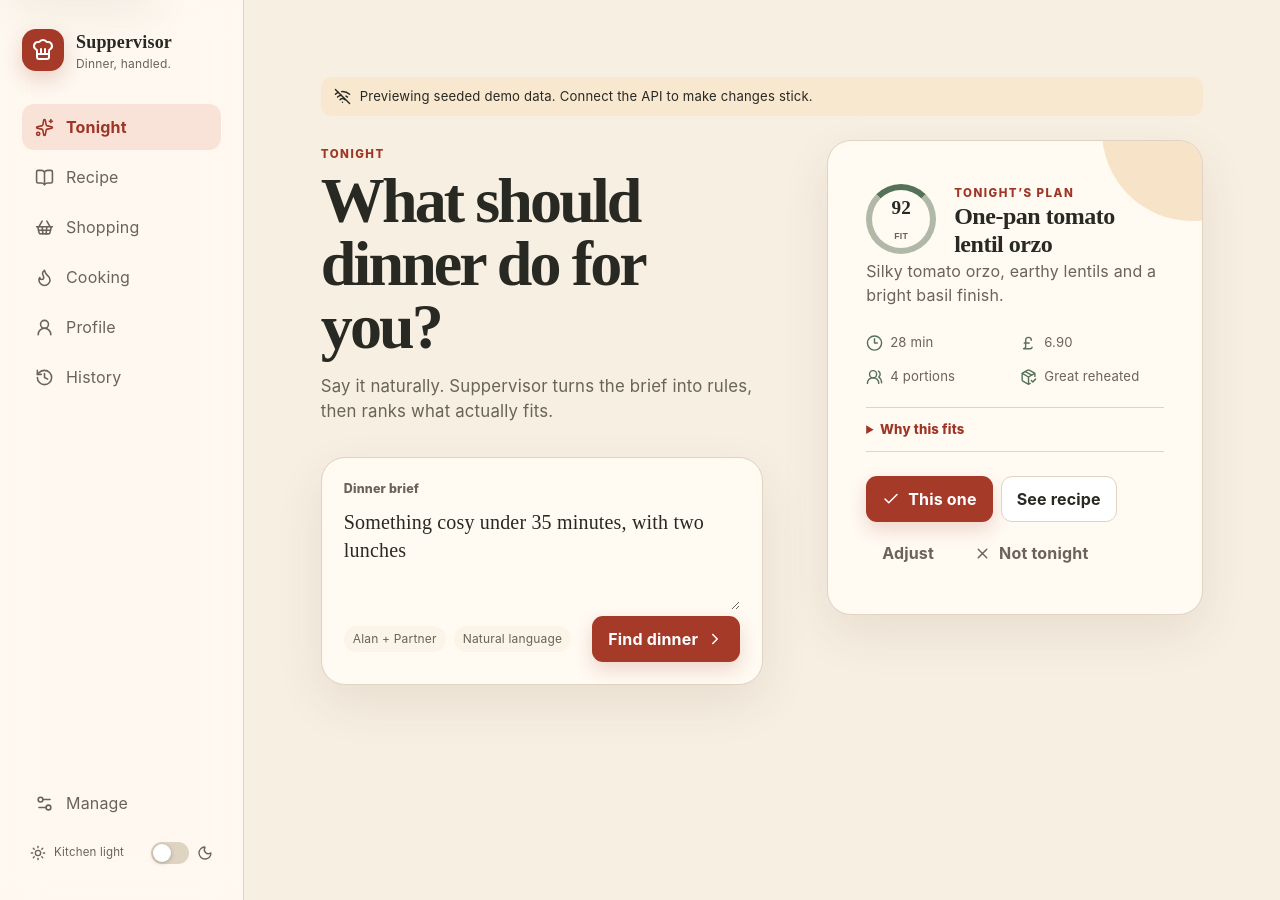
Test: Suppervisor PWA › uses accessible adjustment and structured individual ratings
The width and height of the screenshot is (1280, 900).
Expected: the heading "What should dinner do for you?" is shown, [321, 165, 644, 362]
Click the button "Adjust": (908, 553) [866, 530, 950, 576]
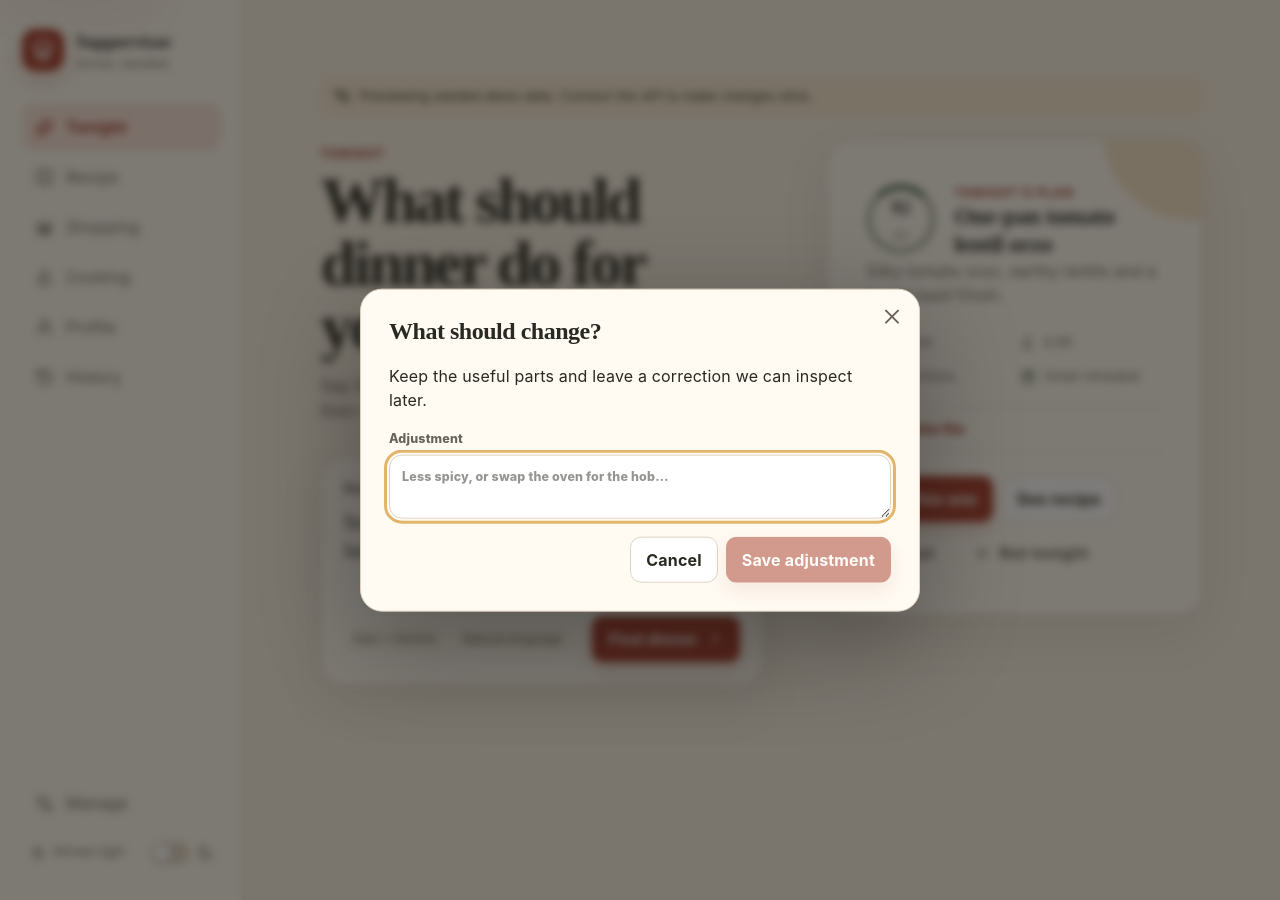
Now the dialog "What should change?" is shown, box [360, 289, 920, 611]
Click the button "Cancel": (674, 559) [630, 536, 718, 582]
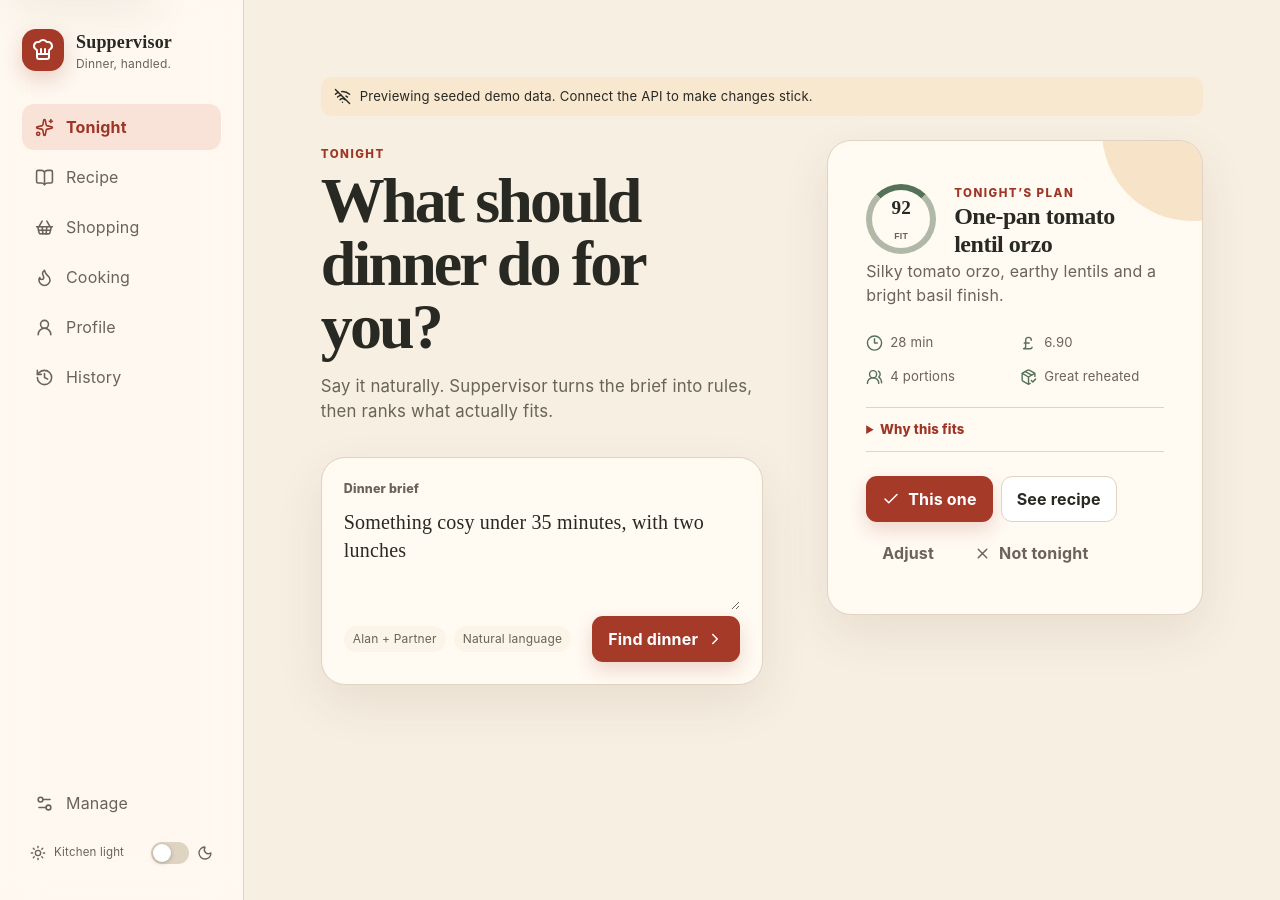
Click the button "Cooking": (122, 277) [22, 254, 221, 300]
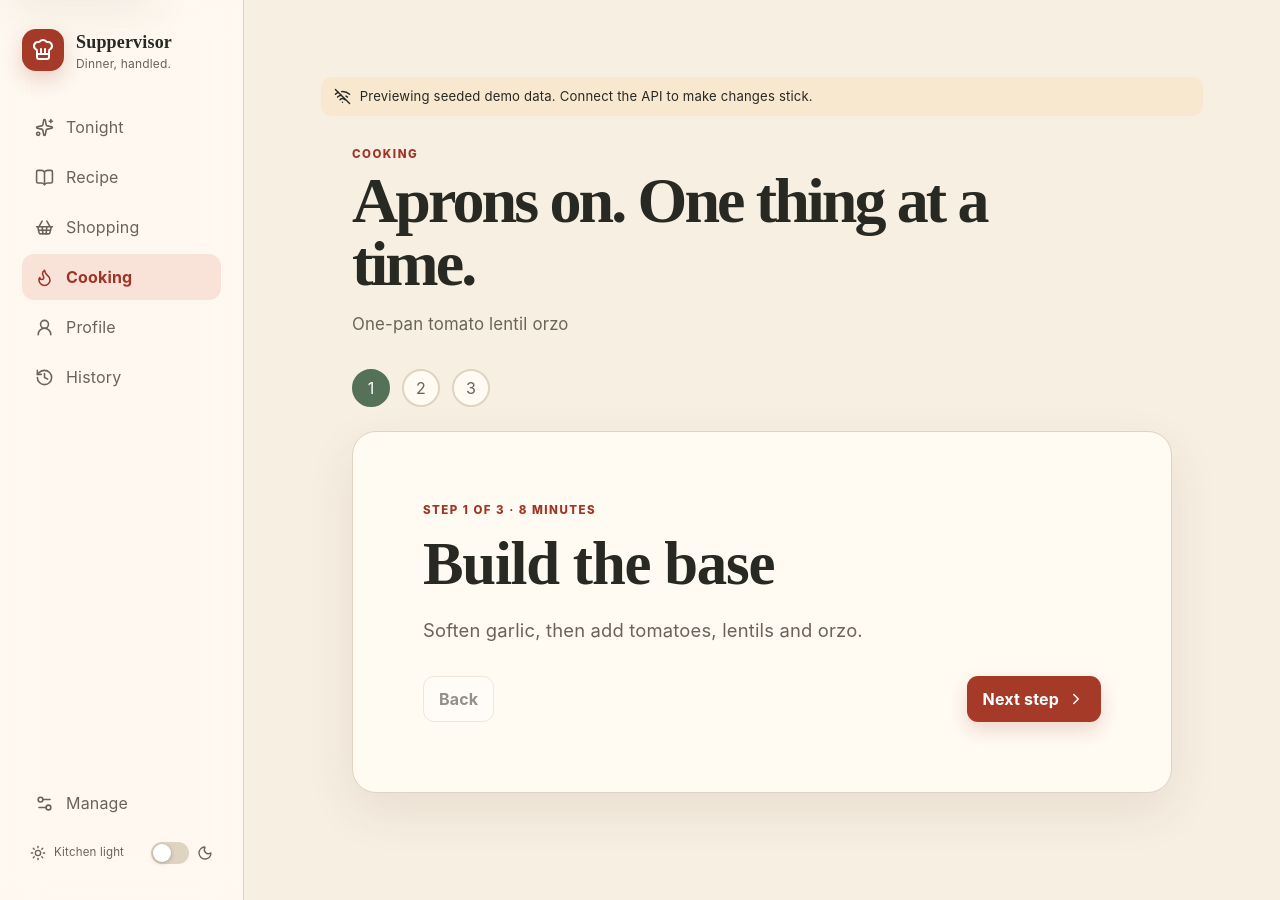
Click the button "Next step": (1034, 700) [966, 676, 1101, 722]
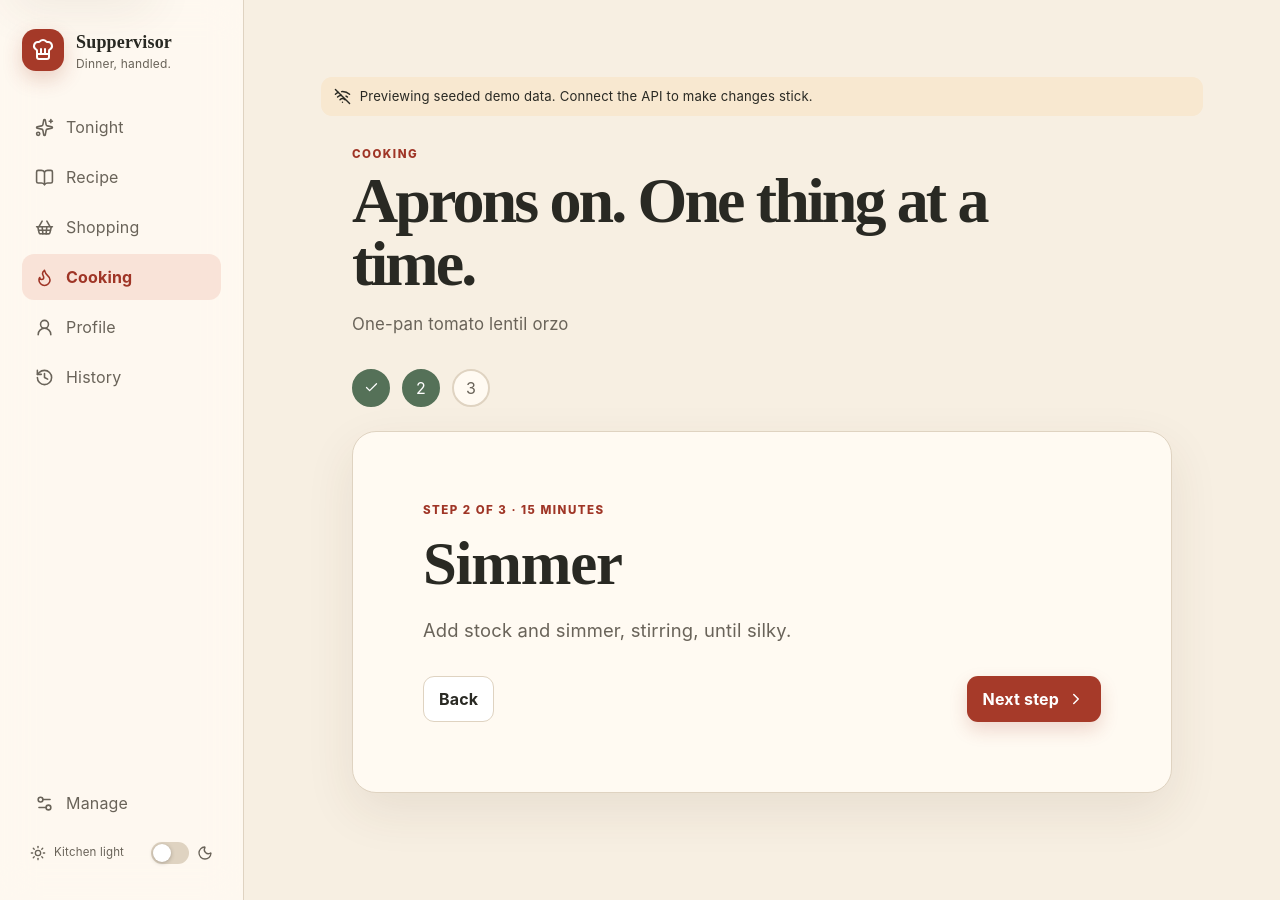
Click the button "Next step": (1034, 700) [966, 676, 1101, 722]
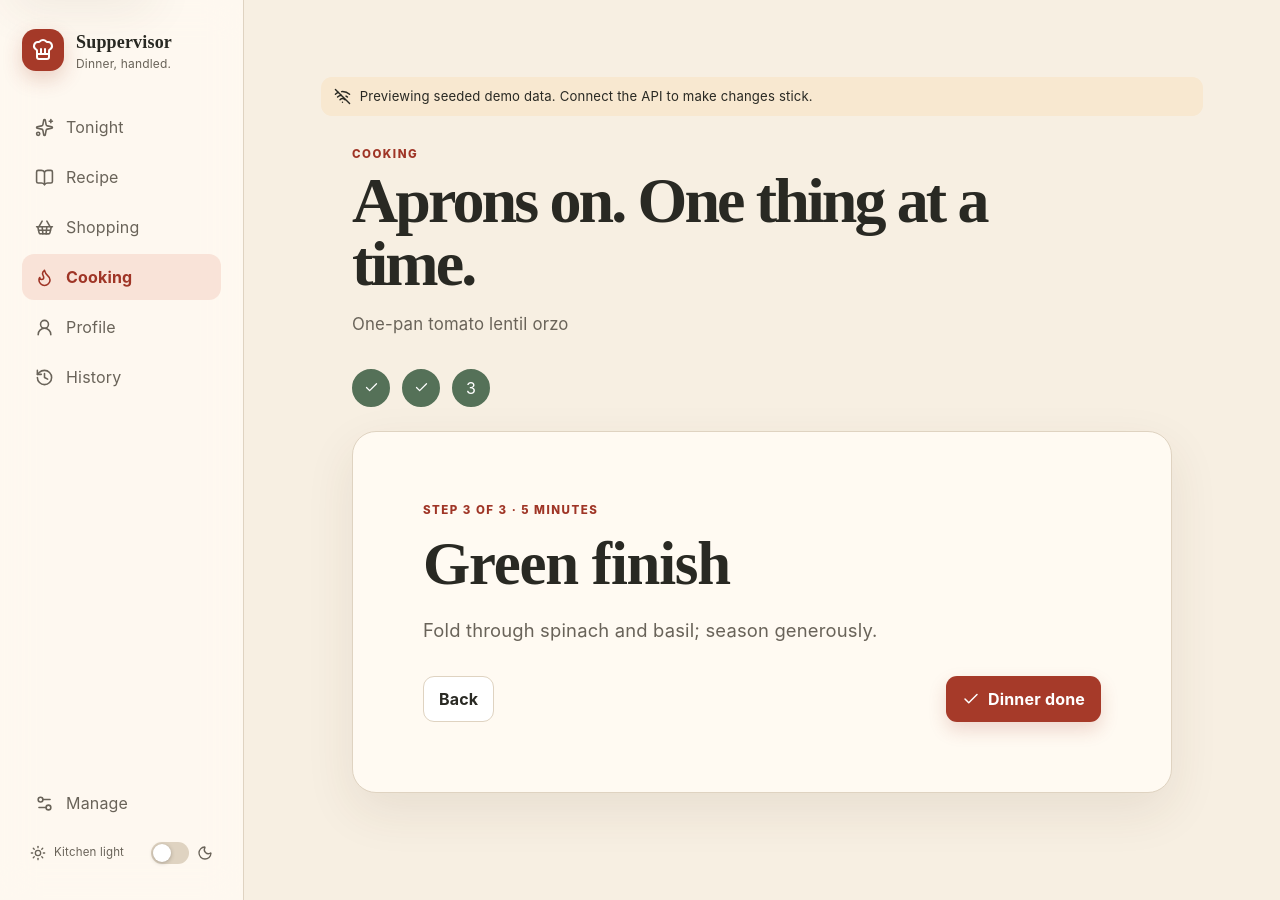
Click the button "Dinner done": (1024, 700) [946, 676, 1101, 722]
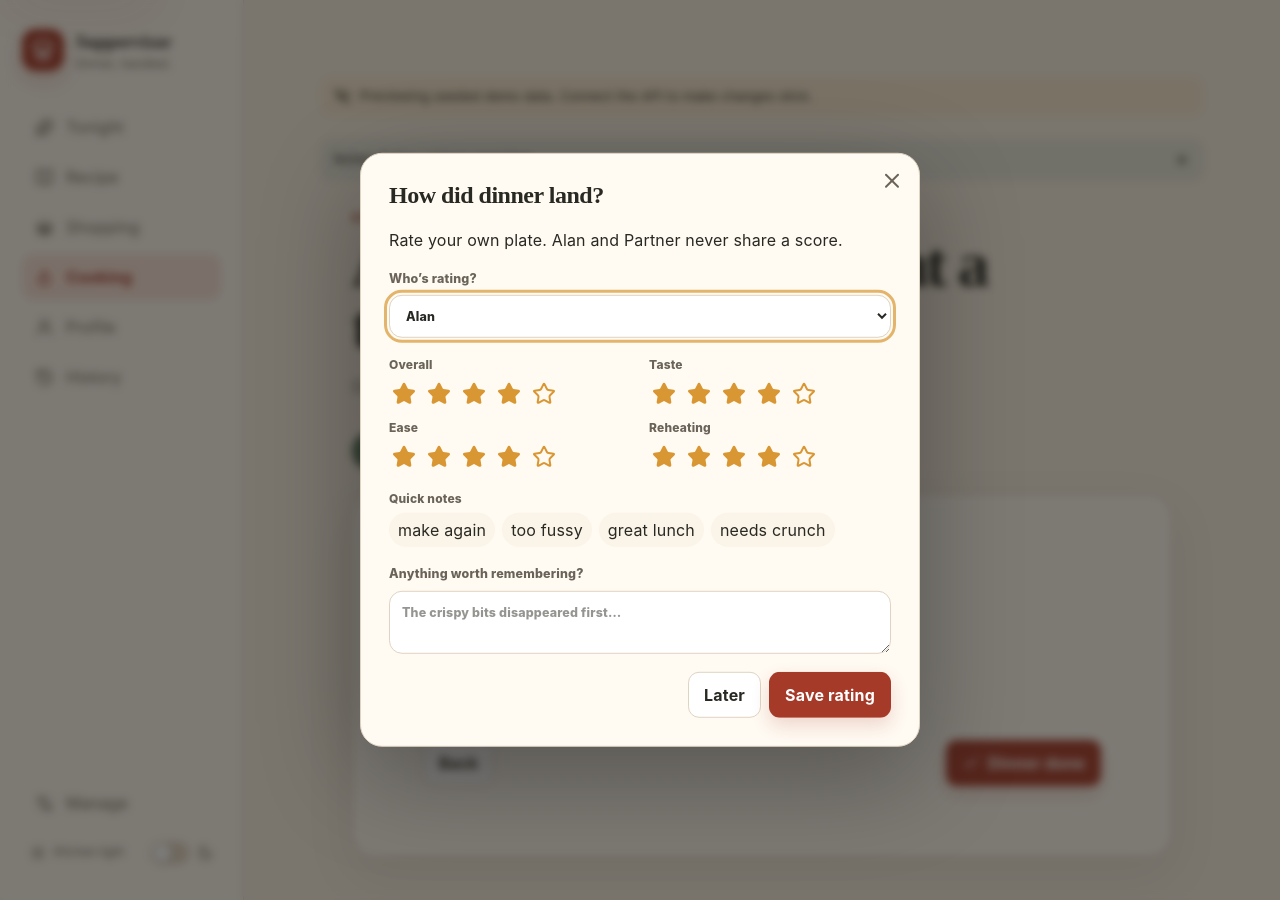
Now the element "Taste" is shown, box [649, 357, 819, 409]
Now the element "Reheating" is shown, box [649, 420, 819, 472]
